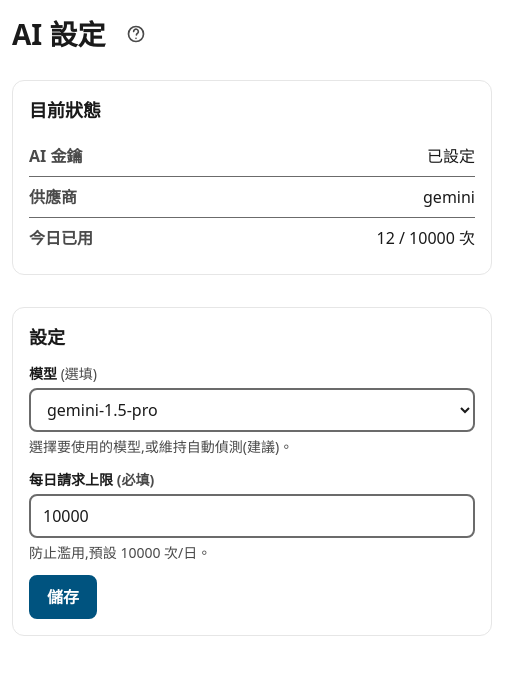
Test: AiSettingsPage › saves with the selected model and daily limit payload, then reloads the status
The image size is (509, 697).
Select "gemini-1.5-flash" in the dropdown labelled "模型 (選填)" at point(252, 410), box [29,388,475,432]
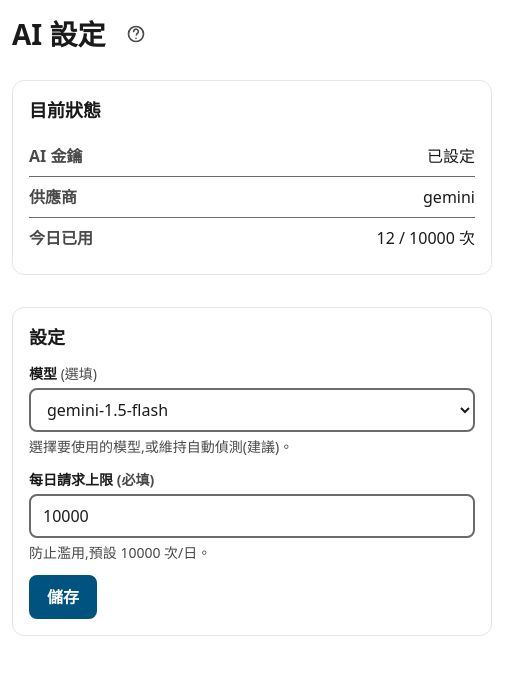
Replace the text in the number field labelled "每日請求上限 (必填)" with "500" at point(252, 516), box [29,494,475,538]
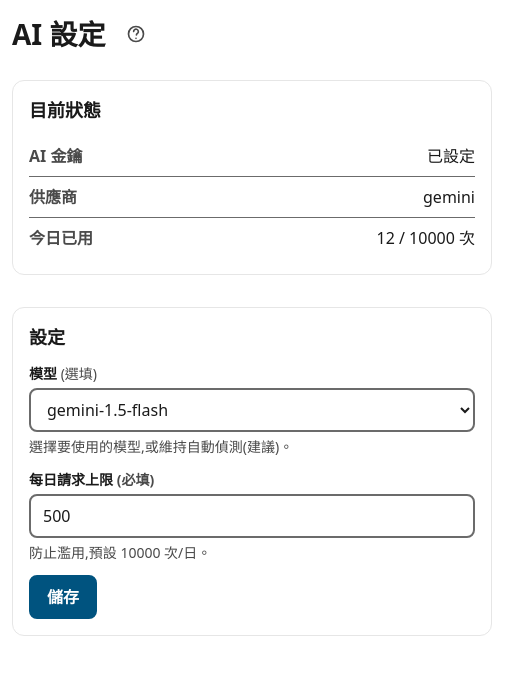
Submit the form, box [12,307,492,636]
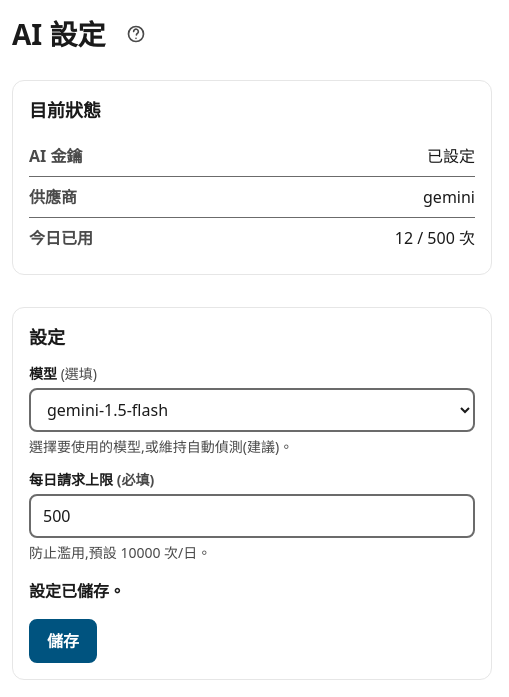
Check: the text "設定已儲存" is shown, box [29,580,125,602]
